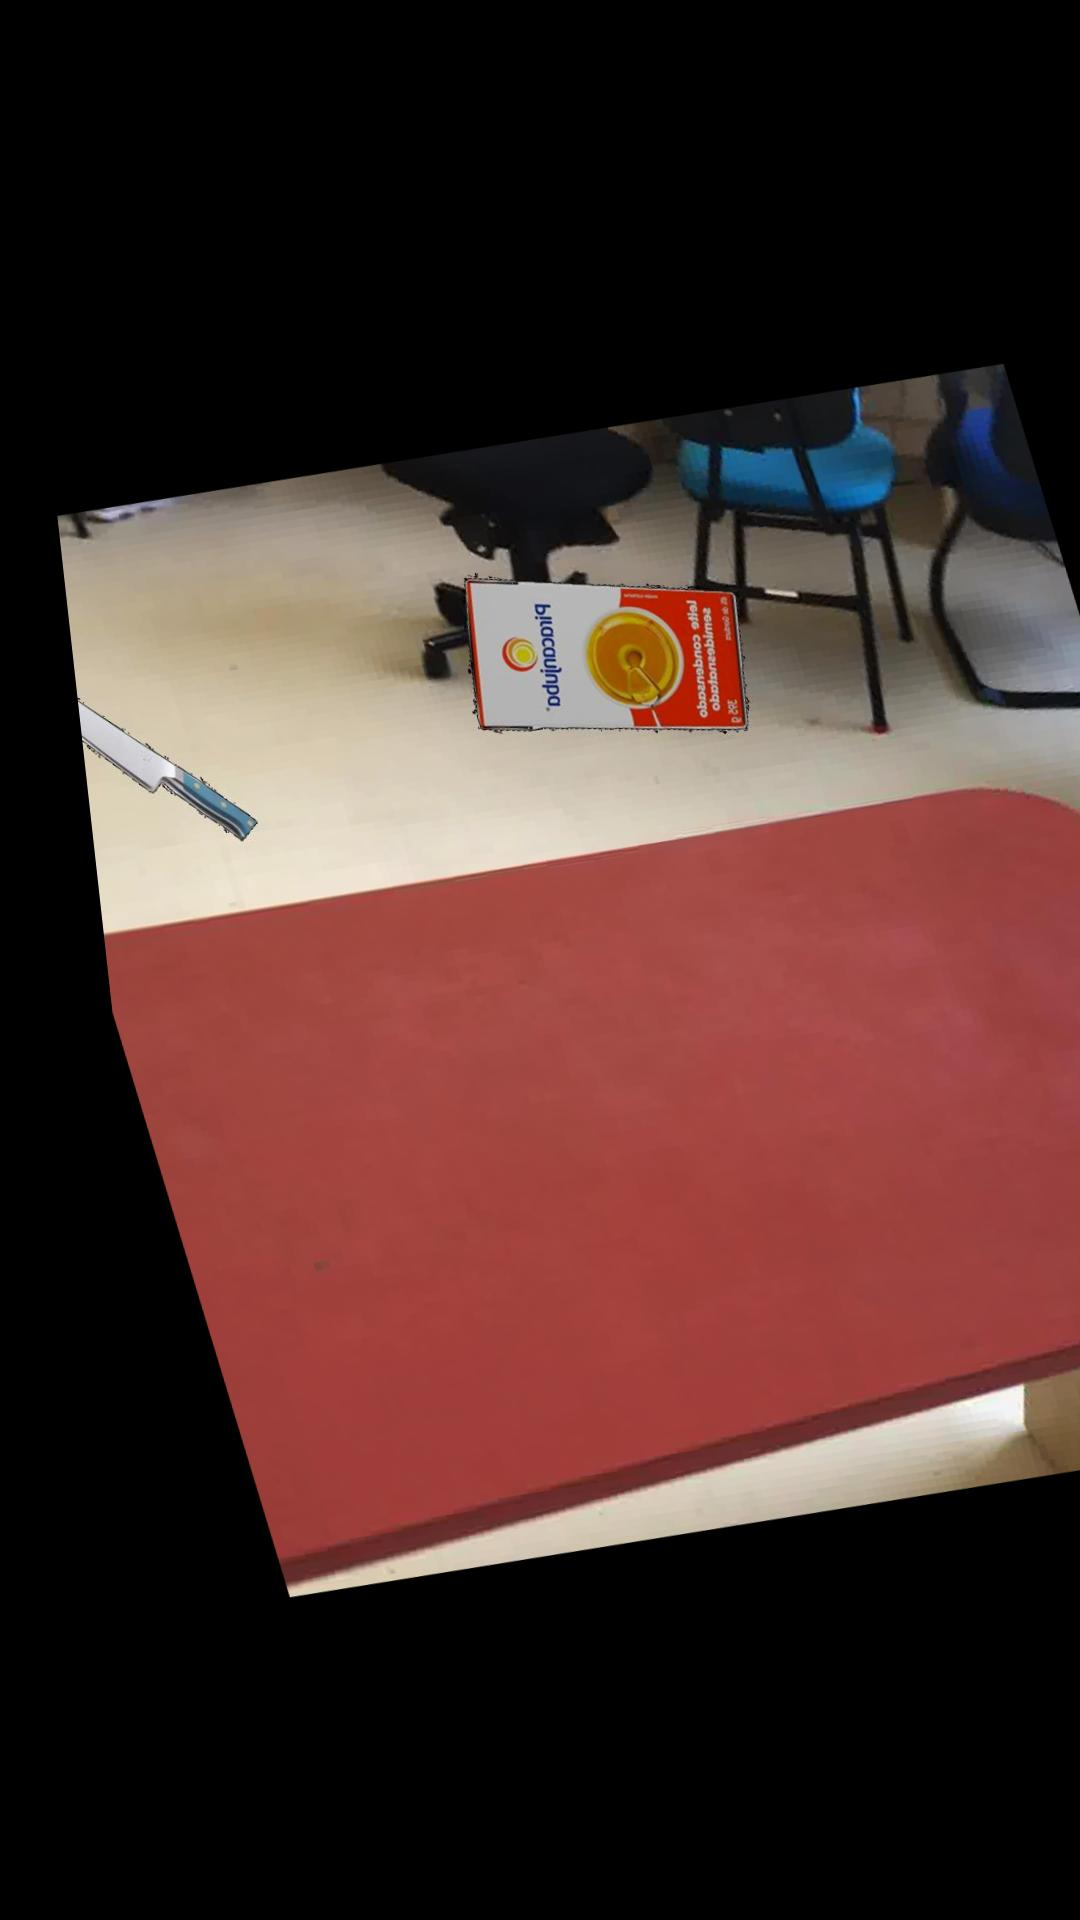knife: (62, 702, 237, 840)
